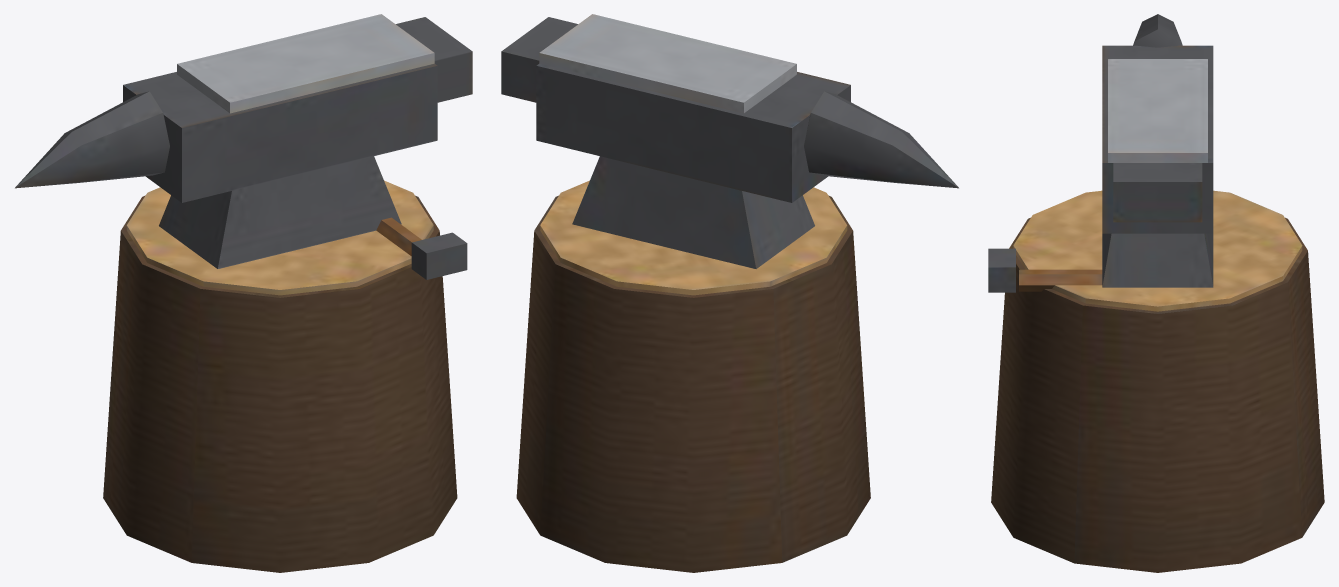
Rendered from anvil.glb.
3 views of the same model, side by side, from view 1: azimuth 30°, elevation 25°; view 2: azimuth 150°, elevation 25°; view 3: azimuth 270°, elevation 25° (orthographic). The views are drawn at different scales.
Parts seen in each view (by area): view 1: anvil; view 2: anvil; view 3: anvil.
Part boxes in pixels (bbox=[...]): anvil: bbox=[15, 14, 472, 572]; anvil: bbox=[501, 14, 958, 572]; anvil: bbox=[988, 14, 1324, 572].
Size of the model in its own units: 0.85 by 0.8198 by 0.605.
Materials: 5 (5 with a texture image).
